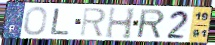2: (165, 8, 191, 41)
H: (104, 6, 137, 41)
L: (49, 7, 71, 36)
O: (23, 6, 49, 36)
R: (79, 7, 108, 38), (137, 8, 166, 39)
